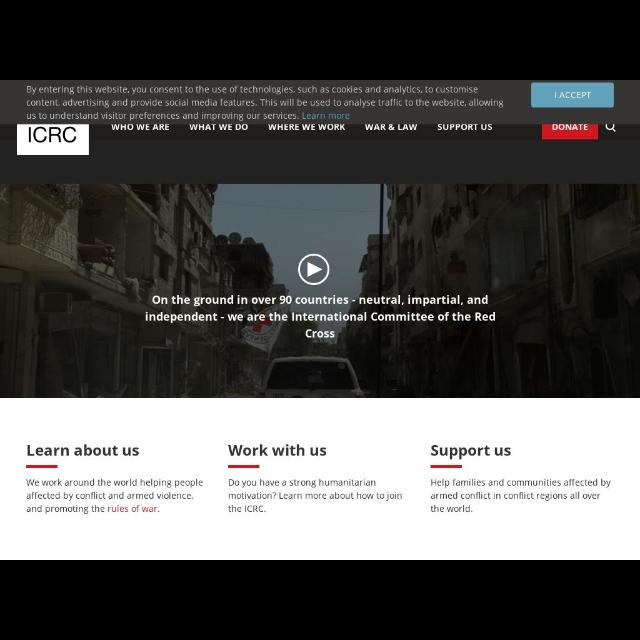backgroundimage: (1, 184, 639, 398)
icon: (605, 124, 615, 132)
text: (26, 85, 504, 121), (147, 296, 496, 338), (27, 478, 204, 514), (431, 479, 611, 513), (228, 479, 402, 513), (228, 444, 326, 458), (28, 445, 138, 457), (432, 444, 512, 460), (28, 126, 76, 146), (268, 122, 344, 132), (189, 122, 247, 132), (436, 122, 494, 132), (554, 91, 592, 101), (111, 124, 169, 130), (362, 124, 418, 130), (552, 124, 588, 132)
textbutton: (532, 84, 614, 106), (542, 125, 598, 139)
